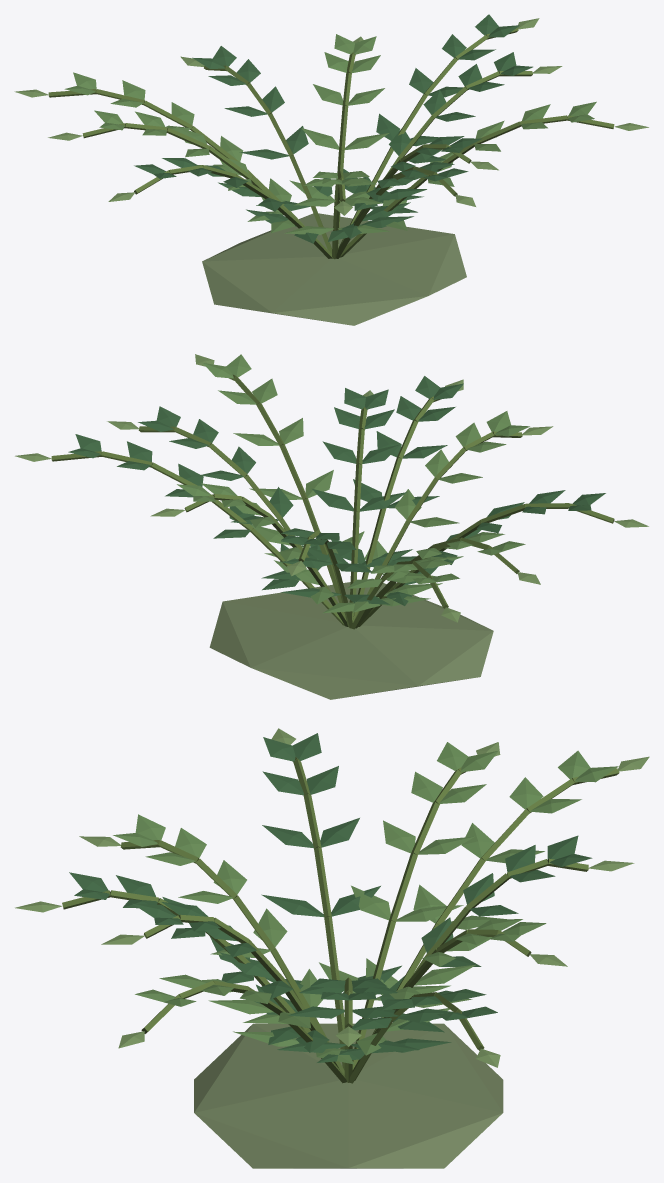
File: nature-fern.glb
The picture shows the model from 3 angles, top to bottom: view 1: azimuth 30°, elevation 25°; view 2: azimuth 150°, elevation 25°; view 3: azimuth 270°, elevation 25°; orthographic projection. The views are drawn at different scales.
Visible parts, largest first — view 1: SculptedModel; view 2: SculptedModel; view 3: SculptedModel.
Part boxes in pixels (bbox=[...]): SculptedModel: bbox=[14, 14, 648, 325]; SculptedModel: bbox=[15, 354, 648, 699]; SculptedModel: bbox=[15, 728, 649, 1168].
Bounding box in the file's own units: 1.6 × 0.5292 × 1.27.
